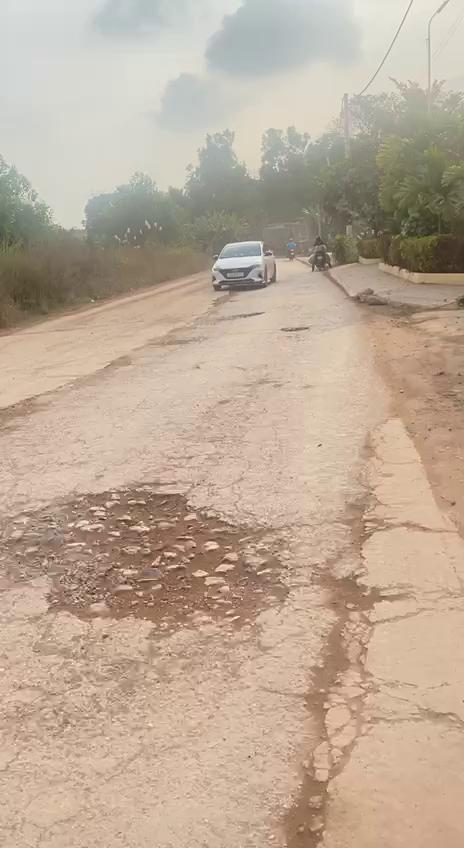pothole: (0, 480, 298, 622), (313, 548, 376, 750), (280, 763, 346, 848)
